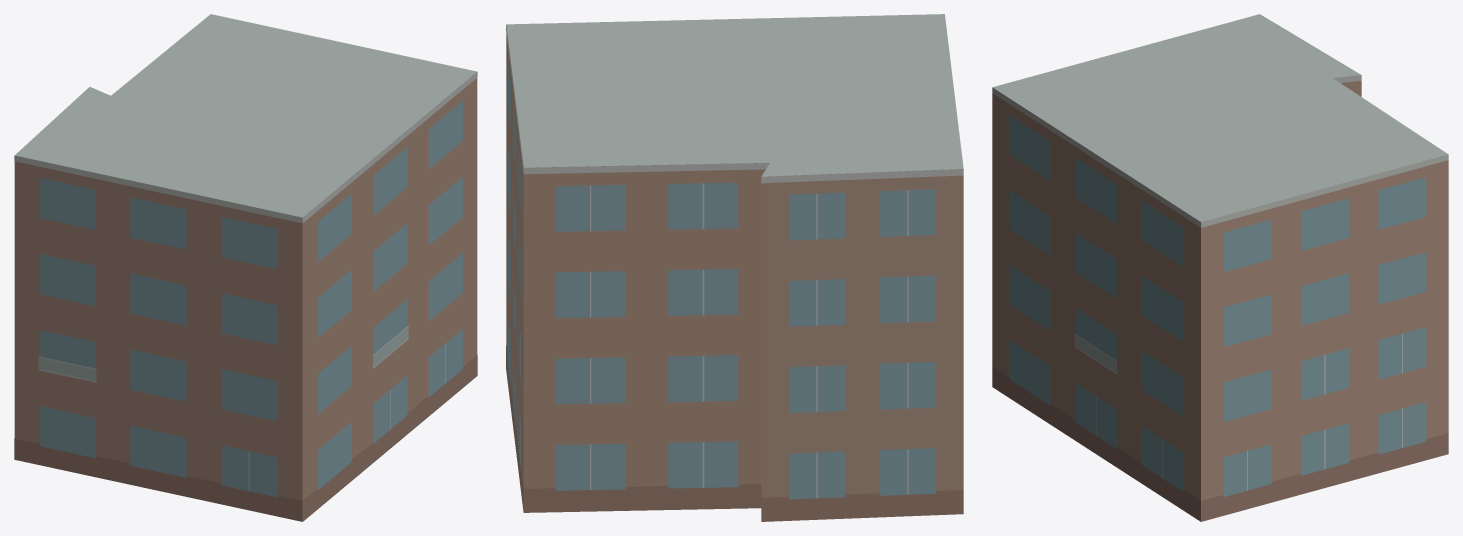
Rendered from survey-upis-32609825.glb.
3 renders of one model, left to right at view 1: azimuth 30°, elevation 25°; view 2: azimuth 150°, elevation 25°; view 3: azimuth 270°, elevation 25°, orthographic. The views are drawn at different scales.
Parts seen in each view (by area): view 1: survey-upis-32609825.tmp; view 2: survey-upis-32609825.tmp; view 3: survey-upis-32609825.tmp.
Boxes of the visible parts, left/top/right/bottom form: survey-upis-32609825.tmp: left=14, top=14, right=477, bottom=521; survey-upis-32609825.tmp: left=506, top=14, right=963, bottom=521; survey-upis-32609825.tmp: left=992, top=14, right=1448, bottom=521.
Bounding box in the file's own units: 19.08 × 12.8 × 17.67.
